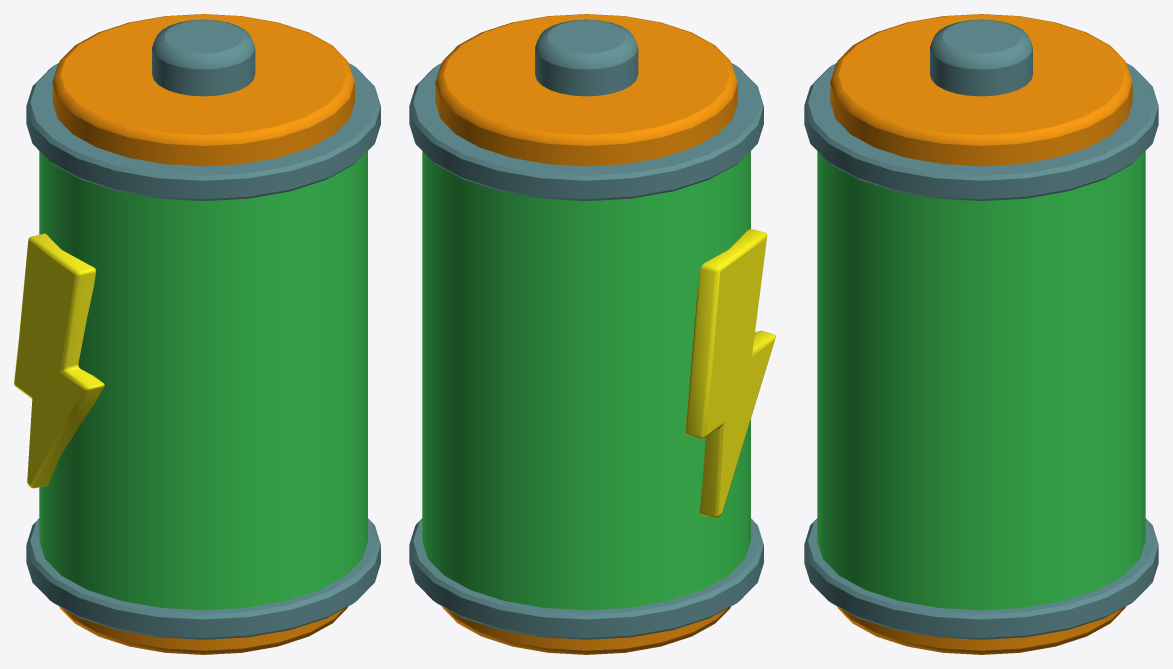
File: battery_Level1_1.fbx
The picture shows the model from 3 angles, left to right: view 1: azimuth 30°, elevation 25°; view 2: azimuth 150°, elevation 25°; view 3: azimuth 270°, elevation 25°; orthographic projection.
Visible parts, largest first — view 1: Grom; view 2: Grom; view 3: Grom.
Part boxes in pixels (bbox=[...]): Grom: bbox=[14, 14, 380, 654]; Grom: bbox=[409, 14, 775, 654]; Grom: bbox=[804, 14, 1158, 654].
Size of the model in its own units: 0.7676 by 1.33 by 0.7655.
